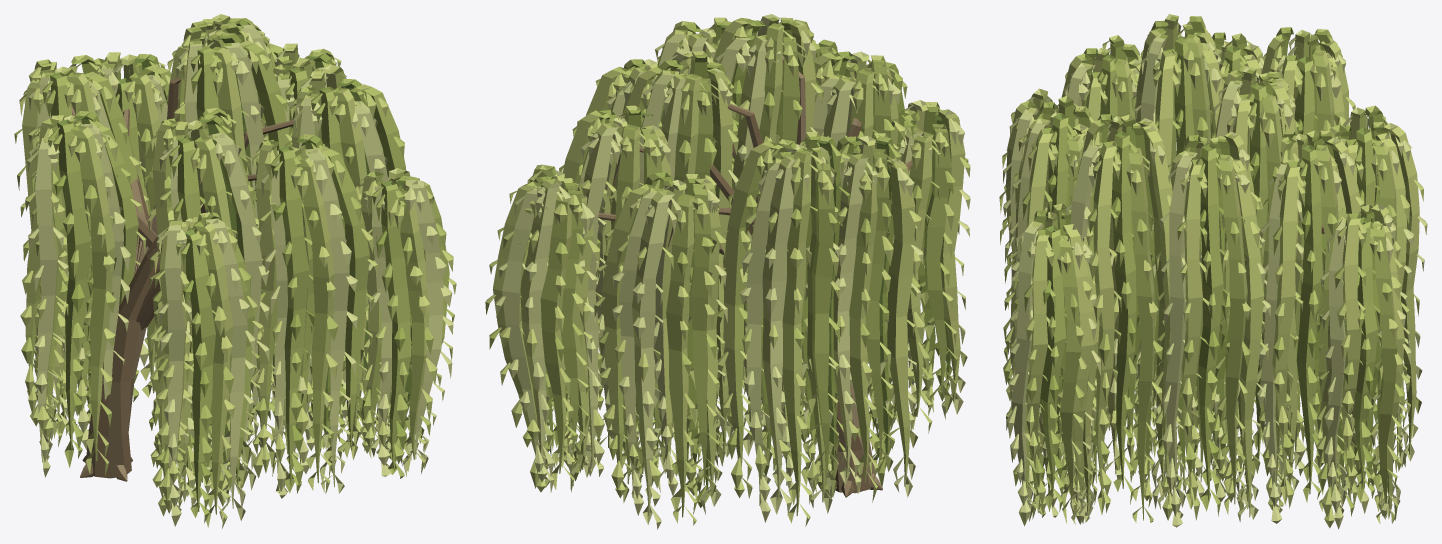
Rendered from lwf_pond_willow_v1.glb.
3 renders of one model, left to right at view 1: azimuth 30°, elevation 25°; view 2: azimuth 150°, elevation 25°; view 3: azimuth 270°, elevation 25°, orthographic. The views are drawn at different scales.
Visible parts, largest first — view 1: WillowHangingFoliage, WillowTrunkBranches; view 2: WillowHangingFoliage, WillowTrunkBranches; view 3: WillowHangingFoliage.
Part boxes in pixels (box(x1,y1,x2,y2)): WillowHangingFoliage: box(14, 14, 456, 528); WillowTrunkBranches: box(71, 73, 302, 481); WillowHangingFoliage: box(485, 14, 970, 529); WillowTrunkBranches: box(598, 55, 912, 497); WillowHangingFoliage: box(999, 14, 1427, 529).
Bounding box in the file's own units: 3.96 × 4.7 × 4.13.
Materials: 1 (1 with a texture image).
